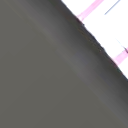crackTip: (114, 37, 128, 53)
